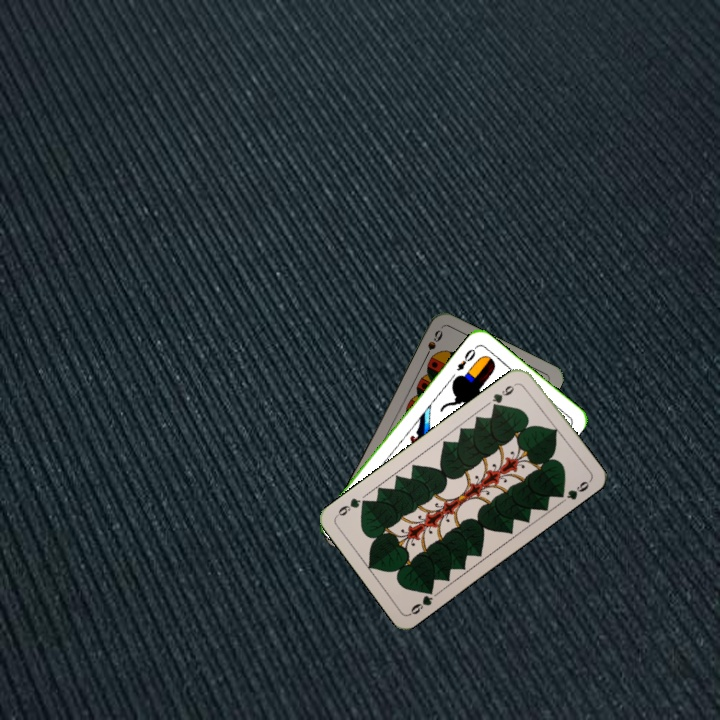EO: (453, 342, 480, 373)
G9: (488, 379, 521, 411), (406, 583, 436, 618)
S9: (420, 326, 445, 363)
